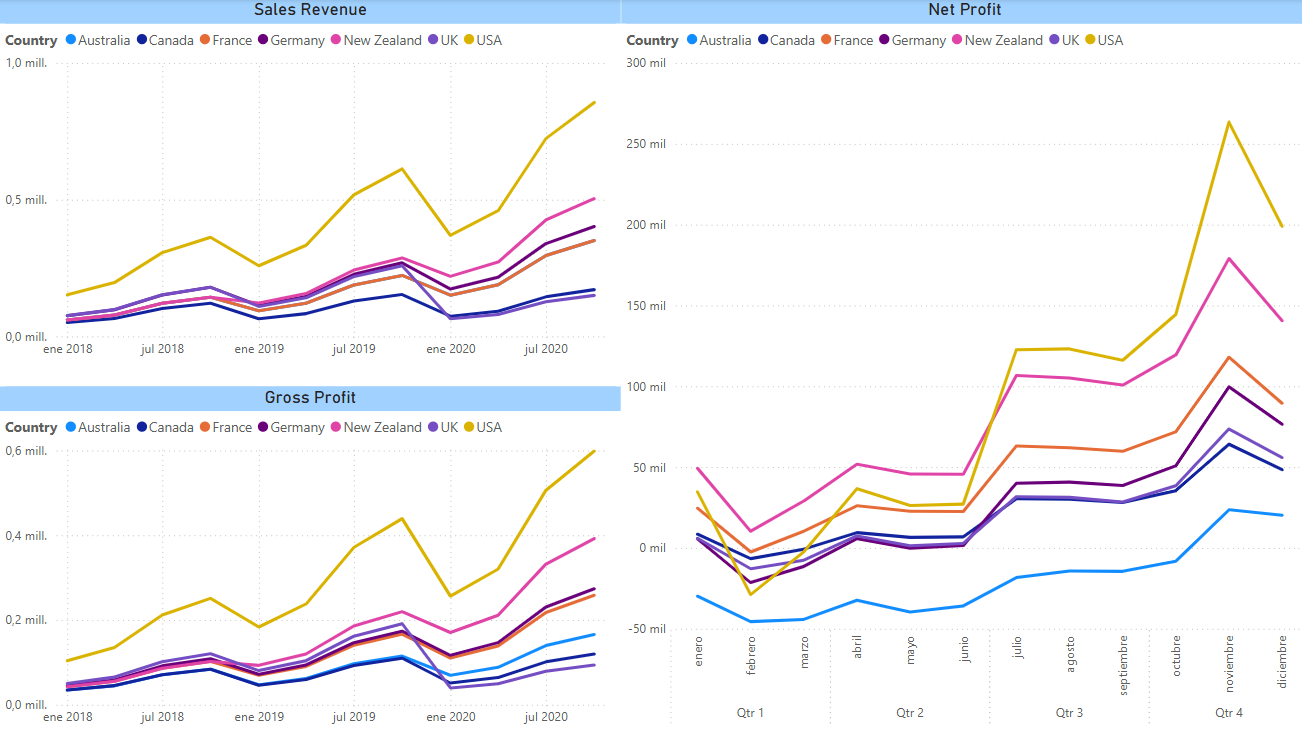

The dashboard page shown, as its layout file describes it:
{"tool":"powerbi","page":{"name":"CrossCountry","canvas":[1280,720],"ordinal":3},"visuals":[{"type":"lineChart","title":"Sales Revenue","fields":{"Category":["tbl_Calendar.Date.Variación.Jerarquía de fechas.Año","tbl_Calendar.Date.Variación.Jerarquía de fechas.Trimestre","tbl_Calendar.Date.Variación.Jerarquía de fechas.Mes","tbl_Calendar.Date.Variación.Jerarquía de fechas.Día"],"Y":["Sum(Fact_tbl_GL_.Amount)"],"Series":["tbl_territory.Country"]},"box":[0,0,607.5,360],"z":0},{"type":"lineChart","title":"Gross Profit ","fields":{"Y":["Sum(Fact_tbl_GL_.Amount)"],"Category":["tbl_Calendar.Date.Variación.Jerarquía de fechas.Año","tbl_Calendar.Date.Variación.Jerarquía de fechas.Trimestre","tbl_Calendar.Date.Variación.Jerarquía de fechas.Mes","tbl_Calendar.Date.Variación.Jerarquía de fechas.Día"],"Series":["tbl_territory.Country"]},"box":[0,378.8,607.5,341.2],"z":1000},{"type":"lineChart","title":"Net Profit ","fields":{"Category":["tbl_Calendar.Date.Variación.Jerarquía de fechas.Trimestre","tbl_Calendar.Date.Variación.Jerarquía de fechas.Mes","tbl_Calendar.Date.Variación.Jerarquía de fechas.Día"],"Y":["Sum(Fact_tbl_GL_.Amount)"],"Series":["tbl_territory.Country"]},"box":[607.5,0,672.5,720],"z":2000}]}

Visuals, with their boxes in screenshot pixels (x1, y1, x2, y2), scaled from the page's 1280x720 canvas onto the 1302x730 screenshot:
"Sales Revenue" lineChart: <box>0,0,618,365</box>
"Gross Profit " lineChart: <box>0,384,618,729</box>
"Net Profit " lineChart: <box>618,0,1301,729</box>
